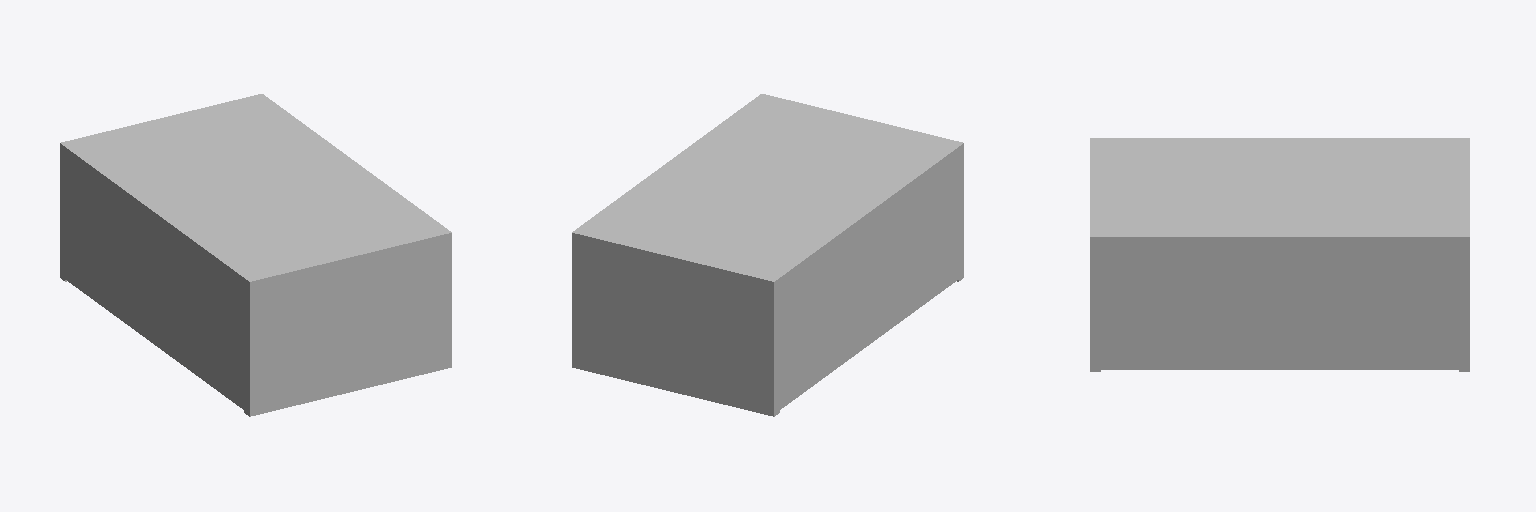
File: wardrobe.obj
3 views of the same model, side by side, from view 1: azimuth 30°, elevation 25°; view 2: azimuth 150°, elevation 25°; view 3: azimuth 270°, elevation 25° (orthographic).
Visible parts, largest first — view 1: polySurface2; view 2: polySurface2; view 3: polySurface2.
Boxes of the visible parts, x1=… form: polySurface2: x1=60, y1=94, x2=451, y2=416; polySurface2: x1=572, y1=94, x2=963, y2=416; polySurface2: x1=1090, y1=138, x2=1469, y2=371.
Size of the model in its own units: 9.6 by 6.18 by 15.6.